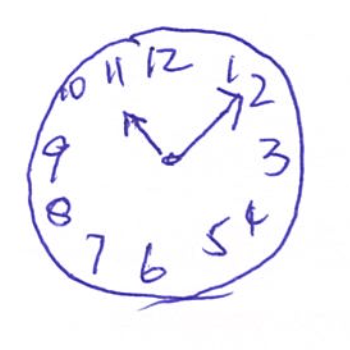1: (226, 54, 238, 86)
10: (56, 78, 87, 100)
11: (103, 57, 126, 88)
12: (145, 44, 194, 79)
2: (248, 70, 276, 108)
3: (258, 136, 292, 179)
4: (241, 200, 269, 239)
5: (200, 215, 231, 259)
6: (139, 242, 167, 286)
7: (84, 227, 106, 277)
8: (41, 197, 74, 229)
9: (41, 134, 70, 183)
contour: (24, 24, 307, 304)
hand: (122, 87, 243, 167)
top_left_arrow: (121, 110, 163, 156)
top_right_arrow: (178, 87, 244, 159)
